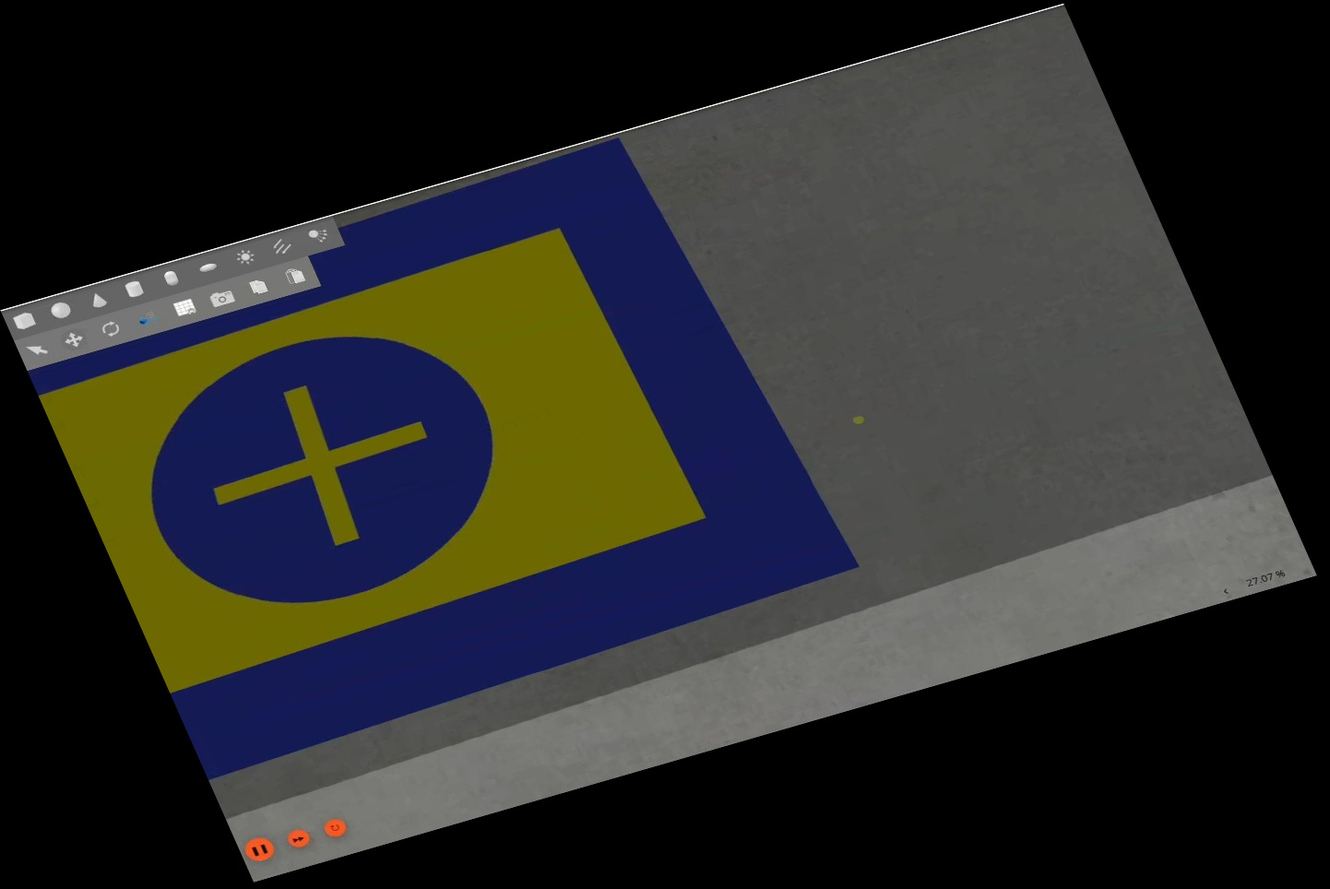large_base: (1, 121, 868, 779)
